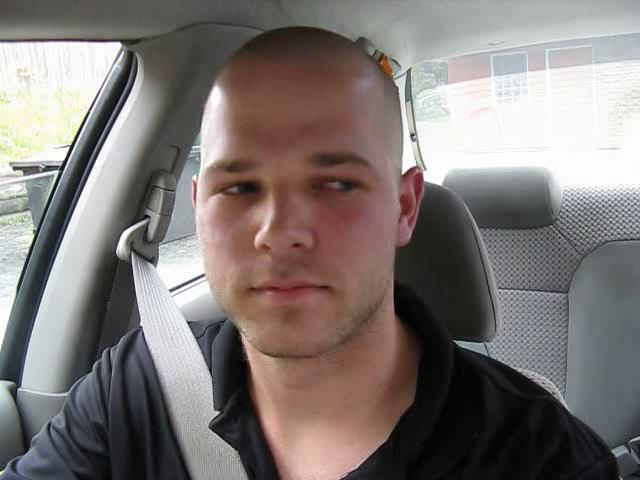close_eyeL: (199, 163, 279, 216)
close_eyeR: (297, 157, 386, 212)
no_yawn: (223, 264, 345, 323)
